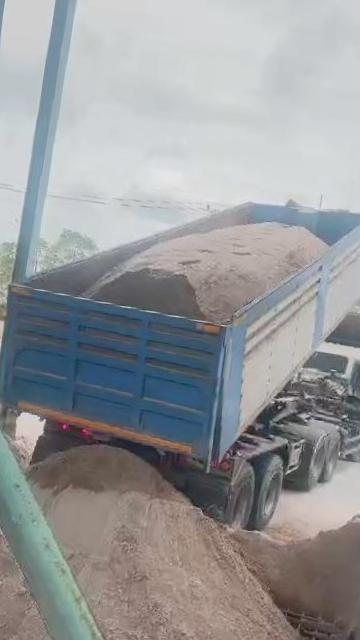sand: (29, 445, 318, 640), (84, 223, 326, 322), (234, 512, 360, 630), (0, 495, 82, 640), (5, 436, 31, 467)
